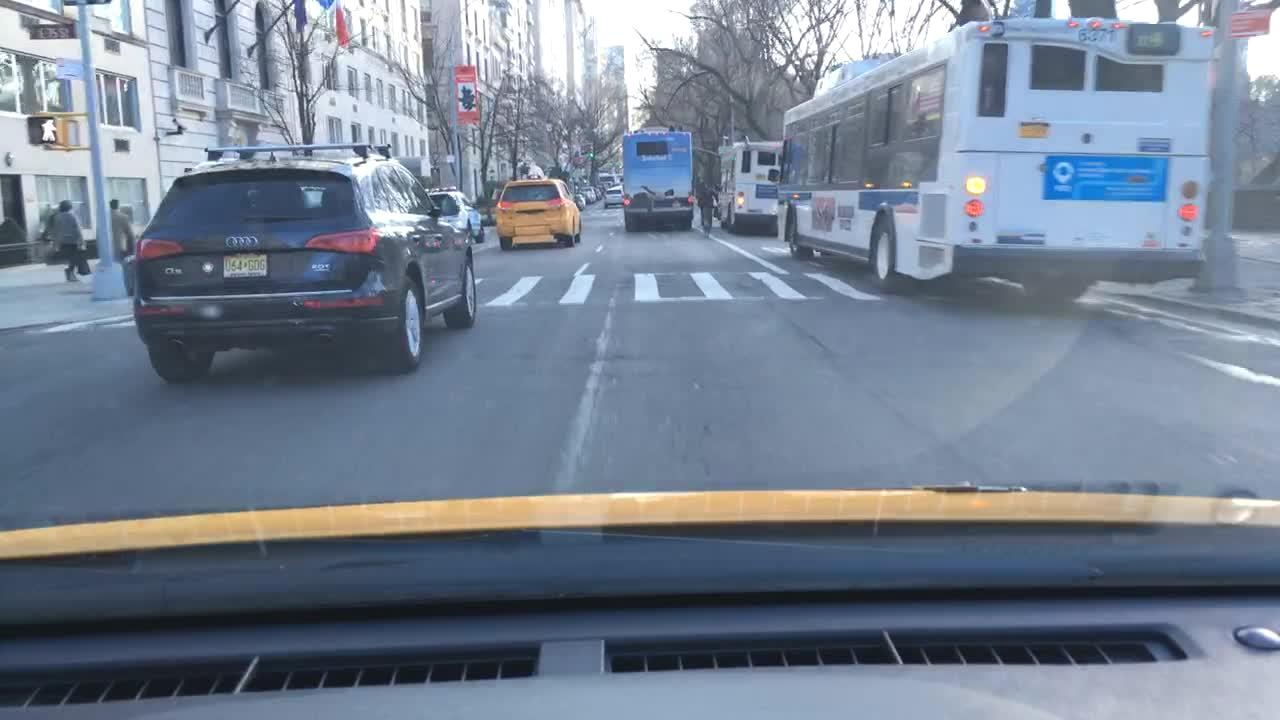Audi: (211, 231, 277, 252)
